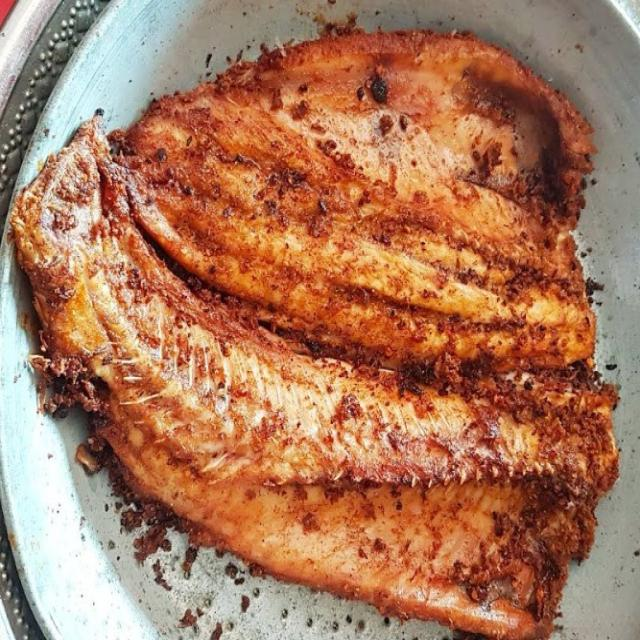FISH FRY: (3, 29, 624, 639)
